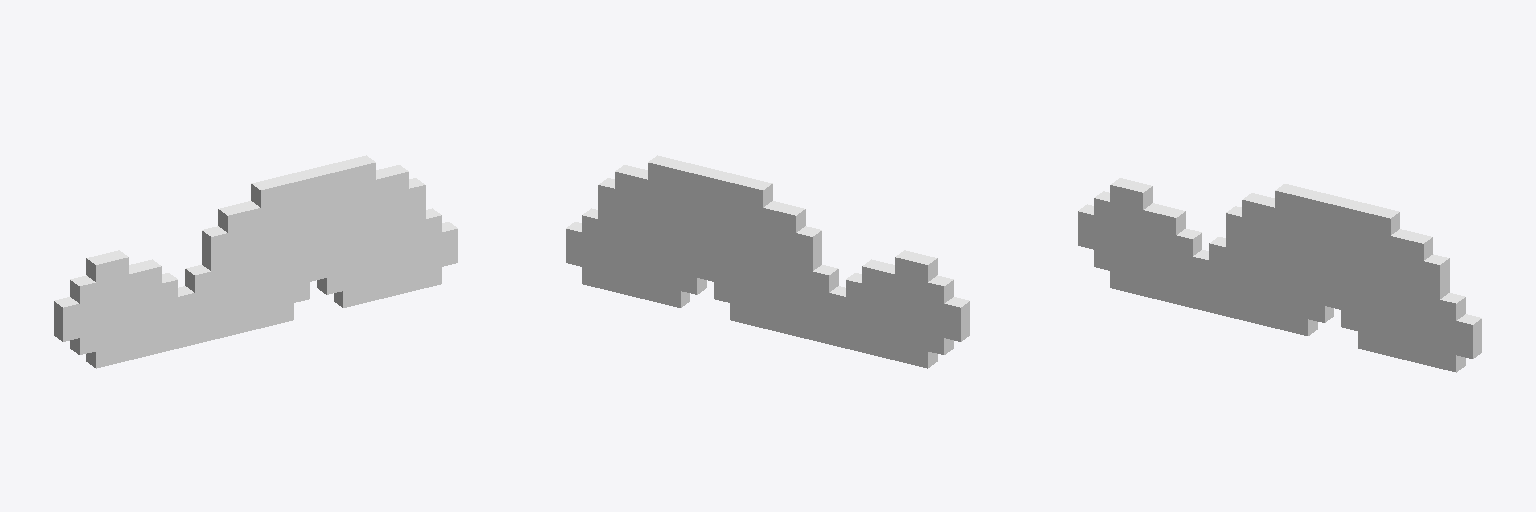
File: raccoon death.obj
3 views of the same model, side by side, from view 1: azimuth 30°, elevation 25°; view 2: azimuth 150°, elevation 25°; view 3: azimuth 330°, elevation 25° (orthographic).
Parts seen in each view (by area): view 1: object 1; view 2: object 1; view 3: object 1.
Boxes of the visible parts, x1,y1,x2,y2 form: object 1: [54, 155, 457, 368]; object 1: [566, 155, 969, 368]; object 1: [1078, 178, 1481, 372].
Bounding box in the file's own units: 2.4 × 0.8 × 0.1.